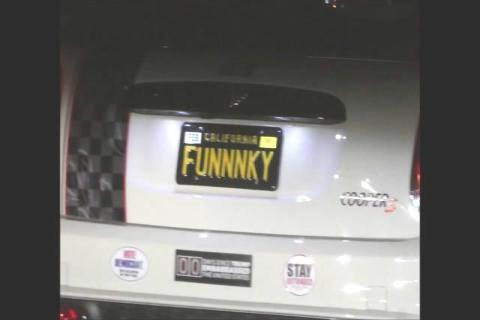LicensePlate: (172, 115, 288, 195)
